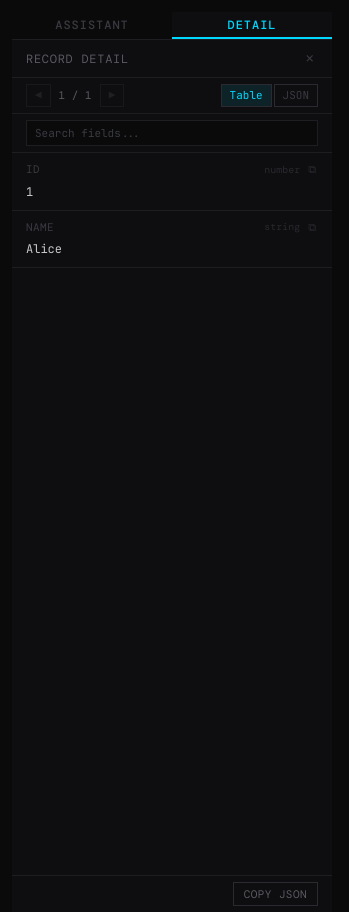
Test: RightSidebar › lets the user re-open detail from the tab after switching back to assistant
Step 1. Click the button "Assistant" → (92, 26), box [12,12,172,39]
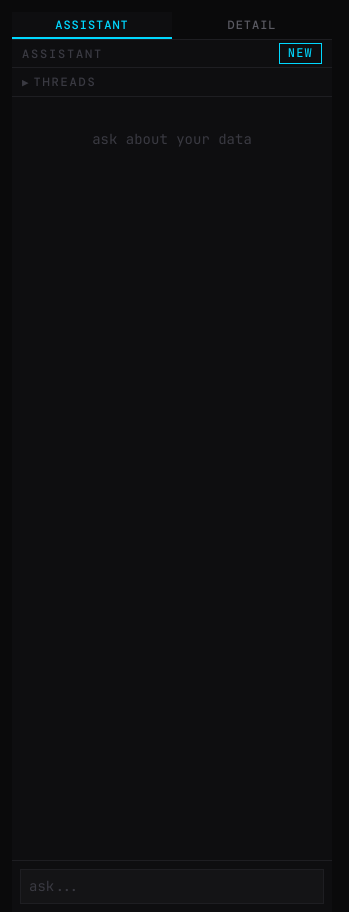
Step 2. Click the button "Detail" → (252, 26), box [172,12,332,39]
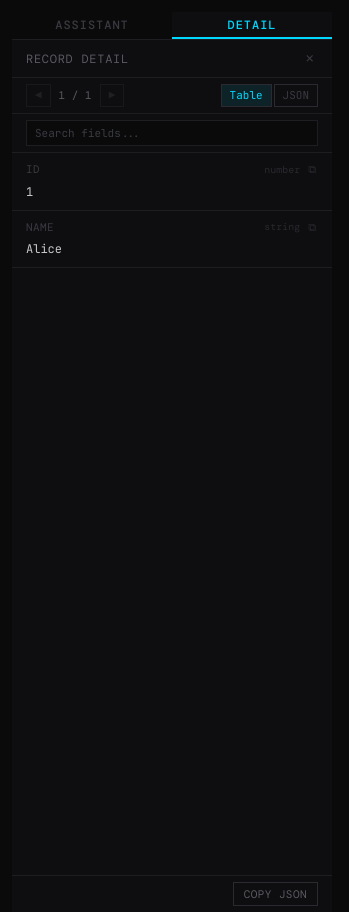
Now the element with test id "record-detail-sidebar" is shown
